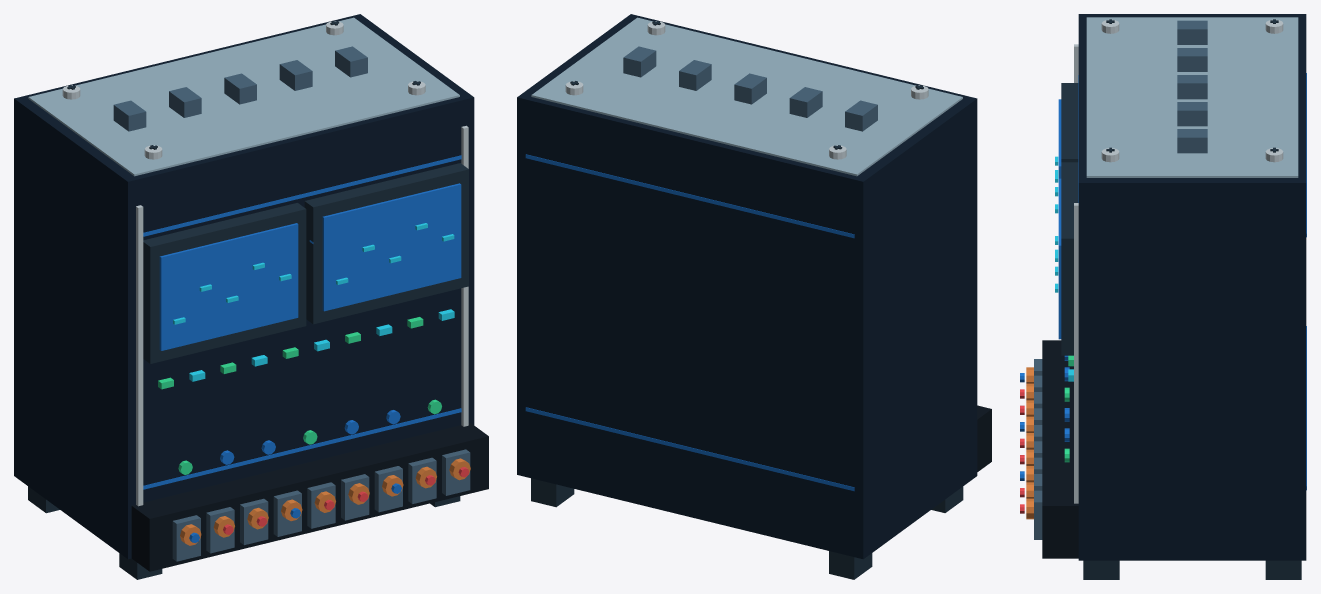
File: 54_L76_CopperElectroplatingPLCRack.fbx
3 views of the same model, side by side, from view 1: azimuth 30°, elevation 25°; view 2: azimuth 150°, elevation 25°; view 3: azimuth 270°, elevation 25° (orthographic).
Parts seen in each view (by area): view 1: CopperElectroplatingPLCRack; view 2: CopperElectroplatingPLCRack; view 3: CopperElectroplatingPLCRack.
Part boxes in pixels (x1=…): CopperElectroplatingPLCRack: x1=14, y1=14, x2=488, y2=579; CopperElectroplatingPLCRack: x1=517, y1=14, x2=991, y2=579; CopperElectroplatingPLCRack: x1=1020, y1=14, x2=1306, y2=579.
Size of the model in its own units: 144 by 167 by 103.
